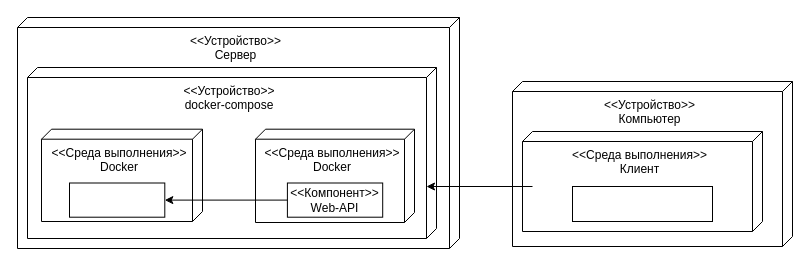
Some shapes in this 810 by 266 pixel diagram are drawn without their labels. Each missing label, with the centre of its shape:
"<<Компонент>> MTSTelemarketing.exe" goes at pixel 642 204.
"<<Компонент>> MySQL" goes at pixel 116 199.
